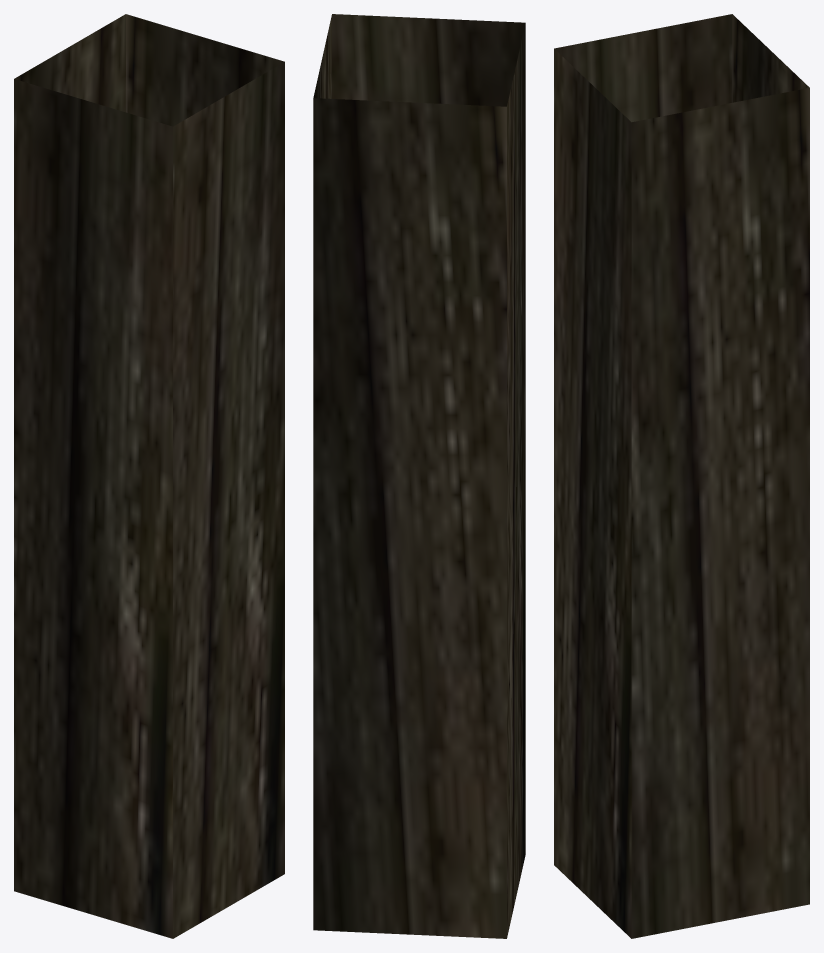
File: BEAM_G.glb
3 views of the same model, side by side, from view 1: azimuth 30°, elevation 25°; view 2: azimuth 150°, elevation 25°; view 3: azimuth 270°, elevation 25° (orthographic). The views are drawn at different scales.
Parts seen in each view (by area): view 1: Mesh; view 2: Mesh; view 3: Mesh.
Boxes of the visible parts, x1,y1,x2,y2 form: Mesh: (14, 14, 284, 938); Mesh: (313, 14, 525, 938); Mesh: (554, 14, 809, 938).
Bounding box in the file's own units: 0.7395 × 2.6 × 0.738.
Materials: 1 (1 with a texture image).
